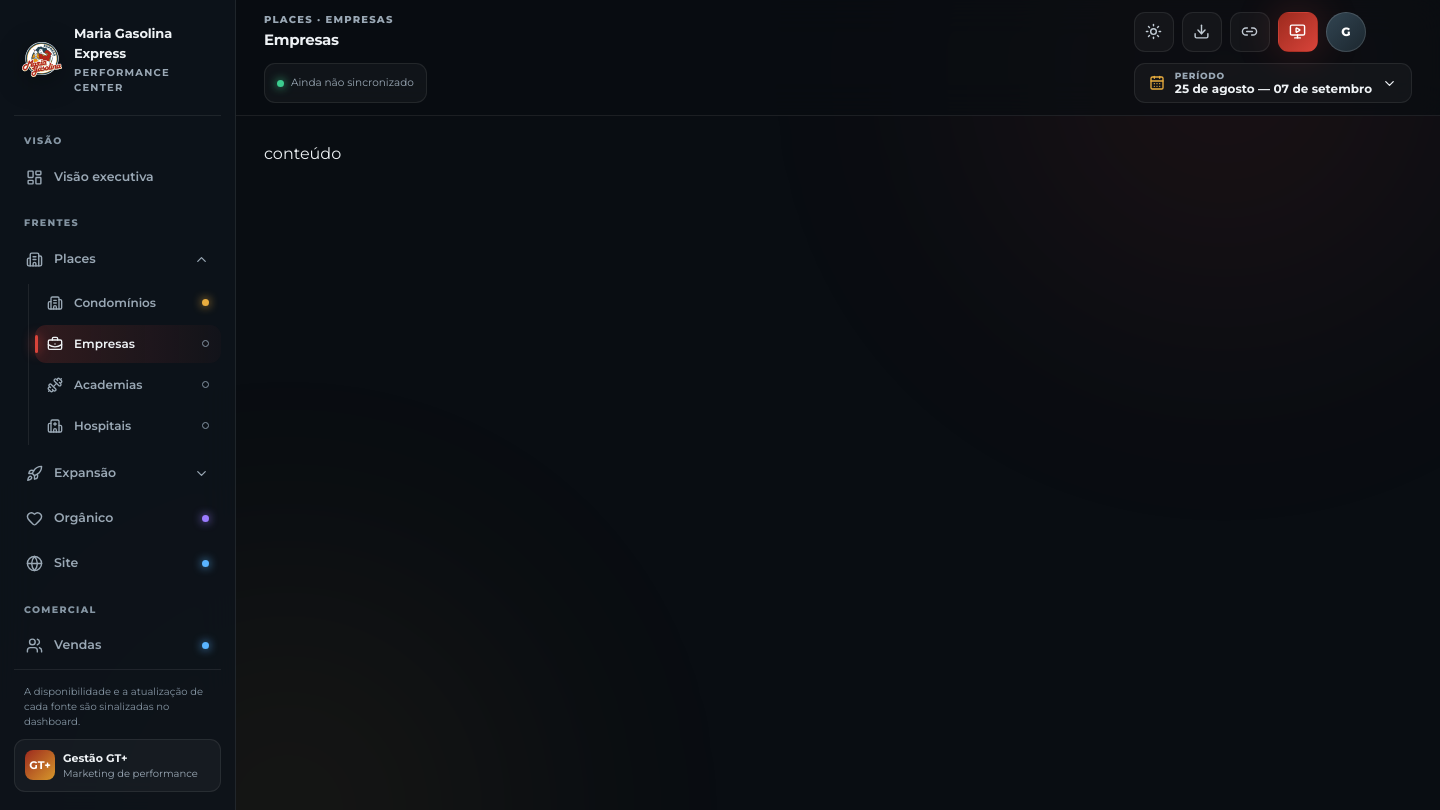
Scenario: sidebar: FRENTES › recolhe a categoria ativa sem mudar a página e alterna categorias independentemente
The image size is (1440, 810).
Click the button "Places": (118, 260) [14,238,221,280]
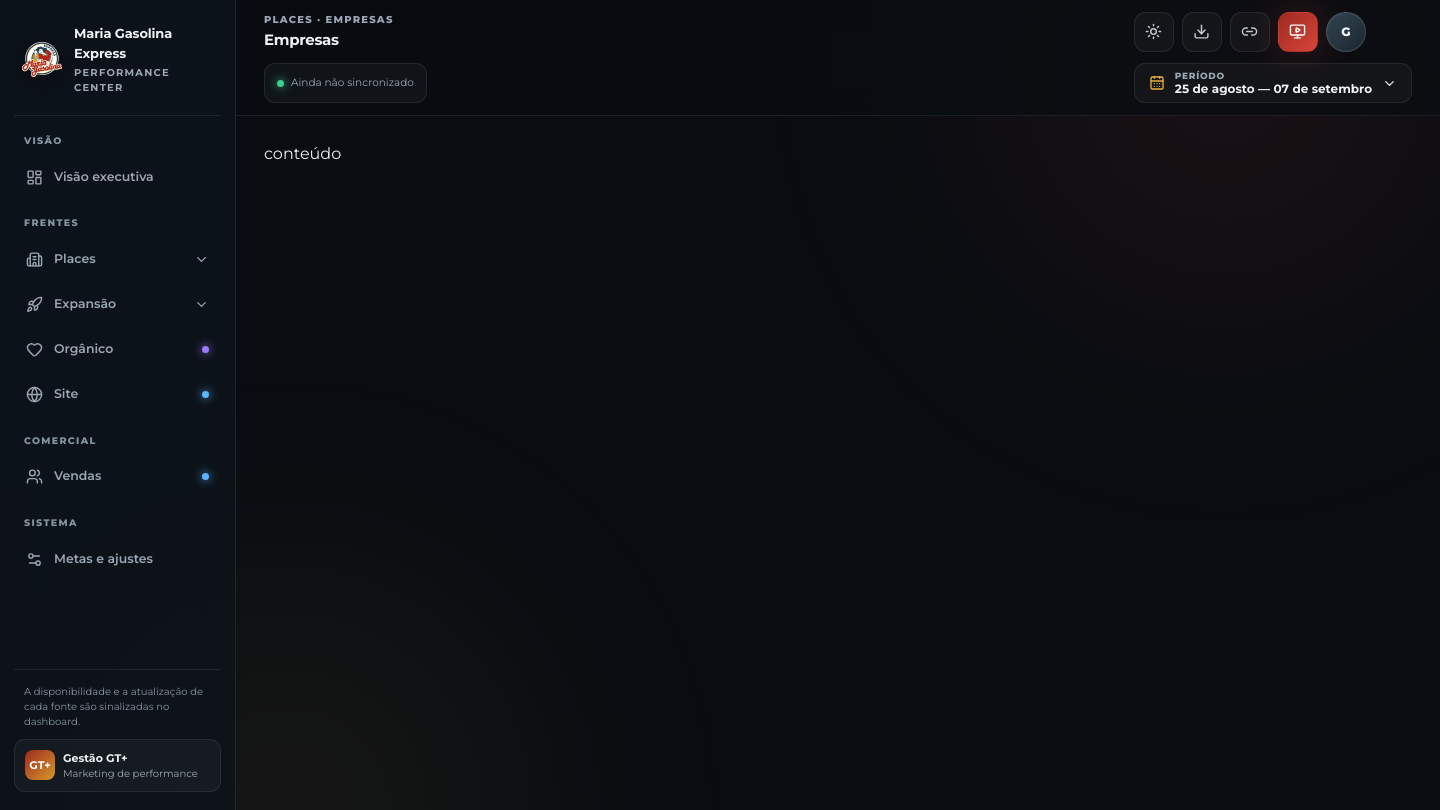
Expected: the button "Places" is collapsed, [14,238,221,280]
Click the button "Expansão": (118, 304) [14,284,221,326]
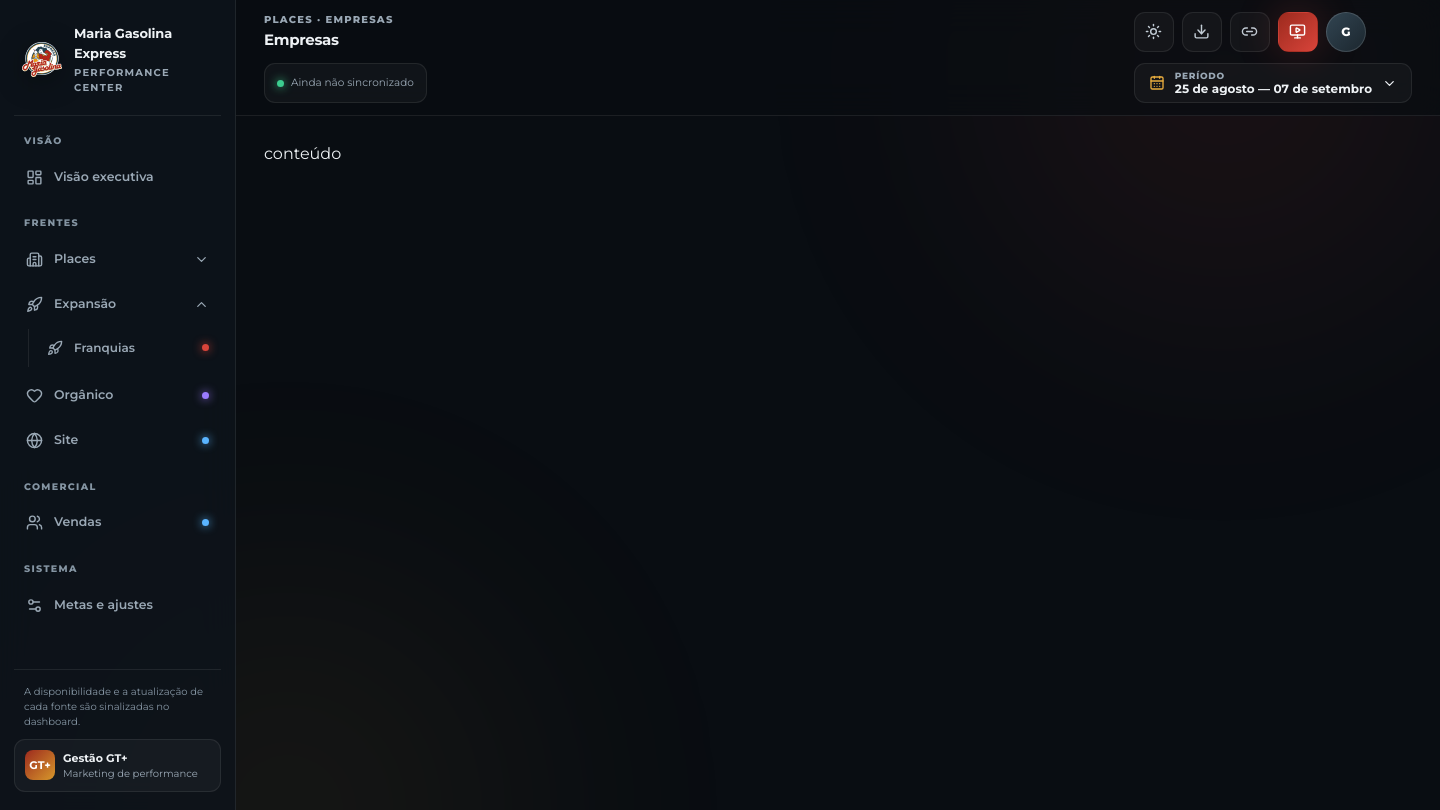
Expected: the navigation bar named "Navegação principal" is shown, [14,116,221,668]
Expected: the button "Places" is collapsed, [14,238,221,280]
Expected: the button "Expansão" is expanded, [14,284,221,326]
